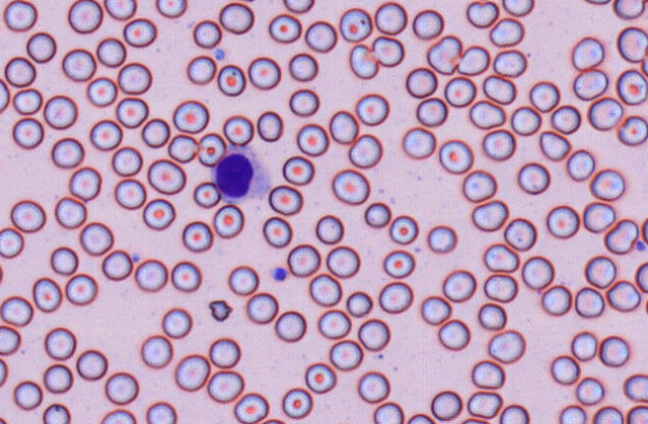MONO: (210, 146, 270, 202)
PLT: (271, 267, 287, 282), (214, 47, 227, 61), (635, 241, 647, 253)
RBC: (147, 158, 185, 194), (174, 353, 210, 391), (331, 168, 369, 204), (488, 329, 525, 363), (172, 99, 209, 133), (206, 369, 244, 402), (587, 96, 623, 130), (43, 94, 77, 129), (348, 133, 382, 168), (438, 139, 473, 173), (10, 199, 46, 232), (218, 1, 254, 34), (79, 221, 113, 255), (247, 56, 281, 90), (67, 0, 102, 33), (325, 245, 360, 278), (61, 48, 96, 81), (339, 7, 372, 42), (572, 68, 608, 100), (589, 168, 625, 200), (471, 200, 508, 231), (616, 68, 647, 105), (571, 36, 604, 70), (401, 126, 435, 159), (521, 255, 554, 289), (104, 371, 138, 404), (68, 166, 101, 200), (134, 258, 167, 292), (117, 61, 151, 94), (287, 243, 320, 277), (462, 169, 496, 202), (442, 269, 476, 302), (374, 1, 407, 35), (546, 204, 579, 238), (606, 279, 641, 311), (617, 26, 647, 63), (357, 318, 390, 351), (503, 217, 536, 250), (355, 93, 389, 125), (140, 334, 172, 368), (212, 204, 244, 238), (378, 281, 412, 313), (2, 0, 37, 31), (233, 392, 268, 423), (483, 242, 519, 272), (469, 99, 505, 129), (44, 327, 76, 360), (437, 318, 470, 350), (309, 273, 341, 306), (142, 198, 175, 230), (115, 96, 148, 128), (357, 370, 389, 403), (371, 35, 404, 67), (584, 255, 616, 288), (582, 201, 615, 233), (517, 162, 550, 194), (304, 20, 337, 52), (296, 123, 328, 156), (329, 339, 363, 370), (268, 184, 302, 215), (32, 277, 62, 312), (489, 17, 524, 47), (246, 292, 278, 324), (65, 273, 97, 305), (405, 66, 437, 98), (12, 117, 44, 149), (54, 196, 86, 228), (274, 310, 306, 342), (181, 220, 213, 252), (0, 295, 33, 326), (51, 137, 84, 168), (89, 119, 122, 150), (482, 129, 515, 160), (317, 309, 351, 339), (122, 17, 156, 47), (482, 74, 516, 104), (101, 249, 133, 280), (4, 56, 36, 87), (114, 178, 146, 209), (170, 260, 201, 292), (208, 337, 240, 368), (444, 76, 476, 107), (281, 387, 312, 419), (304, 362, 336, 393), (222, 114, 253, 146), (268, 13, 301, 43), (483, 273, 517, 302), (329, 110, 358, 144), (466, 390, 501, 418), (76, 349, 107, 380), (161, 307, 192, 338), (26, 31, 56, 63), (430, 390, 462, 420), (529, 80, 559, 112), (412, 9, 444, 39), (282, 155, 314, 185), (599, 335, 629, 367), (471, 359, 504, 388), (197, 132, 225, 166), (492, 49, 526, 77), (111, 146, 142, 176), (86, 76, 117, 106), (510, 105, 541, 135), (550, 104, 581, 134), (416, 97, 447, 127), (541, 284, 571, 315), (574, 286, 604, 317), (262, 216, 292, 247), (617, 115, 647, 146), (382, 249, 414, 278), (566, 149, 595, 181), (43, 363, 73, 393), (96, 37, 126, 67), (228, 265, 258, 295), (167, 134, 198, 163), (420, 295, 451, 324), (217, 64, 245, 96), (13, 380, 42, 410), (141, 117, 170, 147), (315, 214, 344, 244), (186, 55, 216, 84), (389, 214, 418, 244), (288, 52, 318, 81), (288, 88, 319, 116), (256, 110, 283, 142), (575, 376, 604, 405), (550, 355, 579, 384), (192, 19, 221, 48), (50, 246, 78, 275), (477, 302, 506, 330), (427, 225, 456, 253), (12, 87, 42, 114), (571, 331, 597, 360), (0, 227, 24, 258), (193, 181, 220, 208), (145, 401, 177, 423), (346, 290, 372, 317), (364, 201, 391, 227), (623, 373, 647, 402), (373, 401, 404, 423), (103, 0, 136, 20), (613, 0, 645, 19), (0, 325, 20, 355), (155, 0, 187, 18), (499, 404, 529, 423), (42, 403, 70, 423), (592, 405, 623, 423), (100, 408, 136, 423), (559, 404, 586, 423), (502, 0, 534, 16), (283, 0, 314, 13), (626, 405, 647, 423), (635, 261, 647, 292), (0, 78, 9, 113), (407, 413, 434, 423), (0, 357, 8, 386), (641, 45, 648, 76), (461, 416, 489, 423), (641, 217, 648, 244), (584, 0, 611, 5), (261, 418, 285, 423), (0, 261, 4, 285), (644, 296, 648, 314), (0, 149, 2, 180), (0, 416, 7, 423)
Schistocyte: (427, 36, 462, 76), (605, 217, 638, 255), (538, 130, 572, 163), (350, 44, 381, 79), (455, 45, 489, 76), (466, 2, 500, 28), (208, 300, 234, 322)
